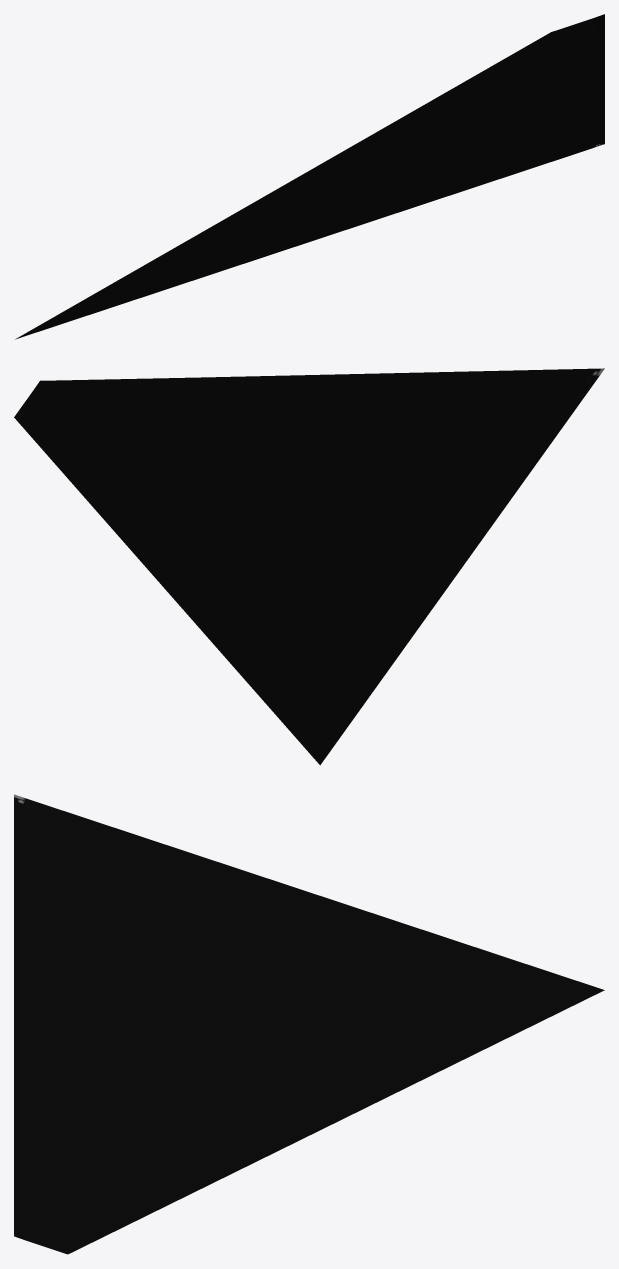
3 renders of one model, top to bottom at view 1: azimuth 90°, elevation 25°; view 2: azimuth 150°, elevation 25°; view 3: azimuth 270°, elevation 25°, orthographic. The views are drawn at different scales.
Bounding box in the file's own units: 1.67 × 0.5343 × 1.46.
1 material, 1 textured.
